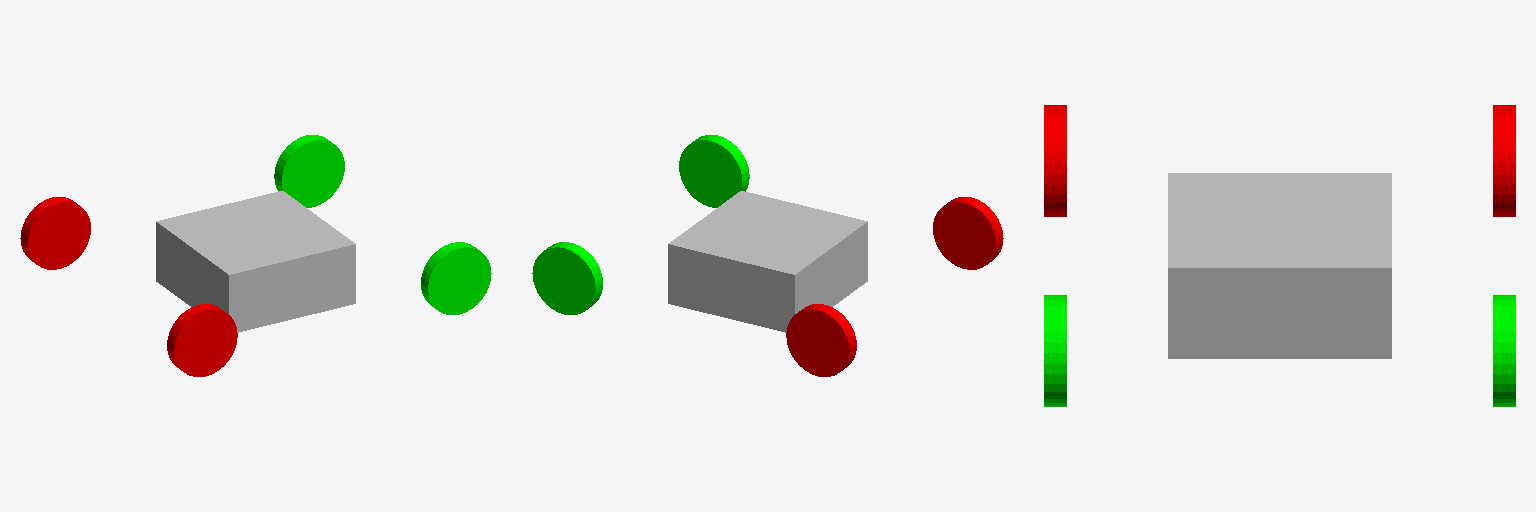
robot.urdf — SampleDrone:
<robot name="SampleDrone">
    <link name="CHASSIS">
      <inertial>
        <origin xyz="0 0 0" />
        <mass value="0.6" />
        <inertia ixx="0.002405" ixy="0" ixz="0" iyy="0.002405" iyz="0" izz="0.004" />
      </inertial>
      <visual>
        <origin xyz="0 0 0.1" />
        <geometry>
          <box size="0.2 0.2 0.09" />
        </geometry>
        <material>
          <color rgba="0.8 0.8 0.8 1.0" />
        </material>
      </visual>
      <camera name="FrontCamera">
        <origin xyz="0.1 0 0" rpy="1.5708 -1.5708 0" />
        <horizontal_fov>1.0821</horizontal_fov> <!-- 62 degrees in radians -->
        <image width="640" height="480" />
        <clip near="0.02" />
        <update_rate>30</update_rate>
      </camera>
      <sensor type="gyro" name="GyroSensor">
        <limit velocity="1000.0" />
      </sensor>
      <sensor type="accel" name="AccSensor">
        <limit acceleration="1000.0 1000.0 1000.0" />
      </sensor>
    </link>
  
    <link name="ROTOR_RF">
      <inertial>
        <origin xyz="0 0 0" />
        <mass value="0.03" />
        <inertia ixx="1.98e-05" ixy="0" ixz="0" iyy="1.98e-05" iyz="0" izz="3.75e-05" />
      </inertial>
      <visual>
        <origin xyz="0.1 -0.1 0.055" rpy="-1.5708 0 0" />
        <geometry>
          <cylinder radius="0.05" length="0.02" />
        </geometry>
        <material>
          <color rgba="0 1 0 1.0" />
        </material>
      </visual>
    </link>
  
    <link name="ROTOR_LF">
      <inertial>
        <origin xyz="0 0 0" />
        <mass value="0.03" />
        <inertia ixx="1.98e-05" ixy="0" ixz="0" iyy="1.98e-05" iyz="0" izz="3.75e-05" />
      </inertial>
      <visual>
        <origin xyz="0.1 0.1 0.055" rpy="-1.5708 0 0" />
        <geometry>
          <cylinder radius="0.05" length="0.02" />
        </geometry>
        <material>
          <color rgba="0 1 0 1.0" />
        </material>
      </visual>
    </link>
  
    <link name="ROTOR_LR">
      <inertial>
        <origin xyz="0 0 0" />
        <mass value="0.03" />
        <inertia ixx="1.98e-05" ixy="0" ixz="0" iyy="1.98e-05" iyz="0" izz="3.75e-05" />
      </inertial>
      <visual>
        <origin xyz="-0.1 0.1 0.055" rpy="-1.5708 0 0" />
        <geometry>
          <cylinder radius="0.05" length="0.02" />
        </geometry>
        <material>
          <color rgba="1 0 0 1.0" />
        </material>
      </visual>
    </link>
  
    <link name="ROTOR_RR">
      <inertial>
        <origin xyz="0 0 0" />
        <mass value="0.03" />
        <inertia ixx="1.98e-05" ixy="0" ixz="0" iyy="1.98e-05" iyz="0" izz="3.75e-05" />
      </inertial>
      <visual>
        <origin xyz="-0.1 -0.1 0.055" rpy="-1.5708 0 0" />
        <geometry>
          <cylinder radius="0.05" length="0.02" />
        </geometry>
        <material>
          <color rgba="1 0 0 1.0" />
        </material>
      </visual>
    </link>
  
    <joint name="ROTOR_RF_joint" type="fixed">
      <parent link="CHASSIS" />
      <child link="ROTOR_RF" />
      <origin xyz="0.1 -0.1 0.055" />
    </joint>
  
    <joint name="ROTOR_LF_joint" type="fixed">
      <parent link="CHASSIS" />
      <child link="ROTOR_LF" />
      <origin xyz="0.1 0.1 0.055" />
    </joint>
  
    <joint name="ROTOR_LR_joint" type="fixed">
      <parent link="CHASSIS" />
      <child link="ROTOR_LR" />
      <origin xyz="-0.1 0.1 0.055" />
    </joint>
  
    <joint name="ROTOR_RR_joint" type="fixed">
      <parent link="CHASSIS" />
      <child link="ROTOR_RR" />
      <origin xyz="-0.1 -0.1 0.055" />
    </joint>
  </robot>
  

--- Facts derived from the render (not from the file) ---
Views: 3 orthographic renders of the robot side by side, from view 1: azimuth 30°, elevation 25°; view 2: azimuth 150°, elevation 25°; view 3: azimuth 270°, elevation 25°.
Robot: SampleDrone — 5 links, 4 joints (4 fixed); root link CHASSIS; default pose: every joint at zero.
Links seen in each view (by area): view 1: CHASSIS, ROTOR_RR, ROTOR_RF, ROTOR_LR, ROTOR_LF; view 2: CHASSIS, ROTOR_LR, ROTOR_LF, ROTOR_RR, ROTOR_RF; view 3: CHASSIS, ROTOR_RF, ROTOR_LF, ROTOR_LR, ROTOR_RR.
Link boxes in pixels (x1,y1,x2,y2): CHASSIS: [156, 191, 355, 332]; ROTOR_RR: [167, 304, 237, 376]; ROTOR_RF: [421, 242, 491, 314]; ROTOR_LR: [20, 197, 90, 269]; ROTOR_LF: [274, 135, 344, 207]; CHASSIS: [668, 191, 867, 332]; ROTOR_LR: [786, 304, 856, 376]; ROTOR_LF: [532, 242, 602, 314]; ROTOR_RR: [933, 197, 1003, 269]; ROTOR_RF: [679, 135, 749, 207]; CHASSIS: [1168, 173, 1391, 358]; ROTOR_RF: [1044, 295, 1066, 406]; ROTOR_LF: [1493, 295, 1515, 406]; ROTOR_LR: [1493, 105, 1515, 216]; ROTOR_RR: [1044, 105, 1066, 216].
Size in the robot's own frame: 0.5 by 0.42 by 0.105 metres.
Geometry: primitives only (box / cylinder / sphere), no mesh files.
